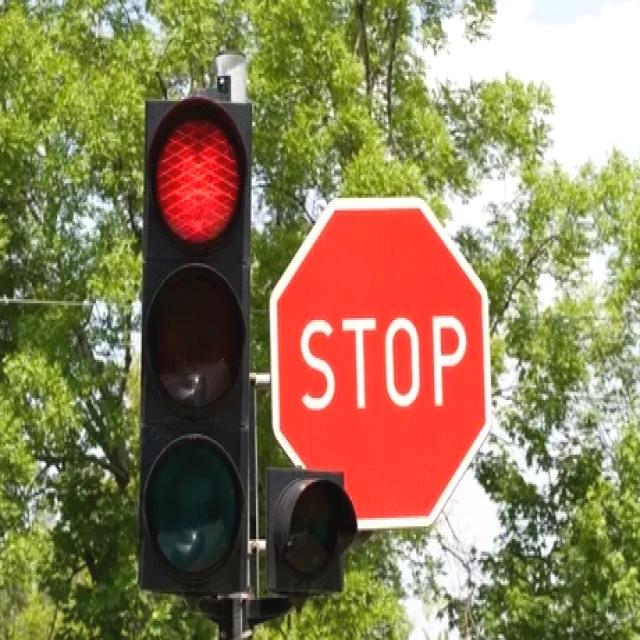kirmizi: (140, 97, 251, 592)
